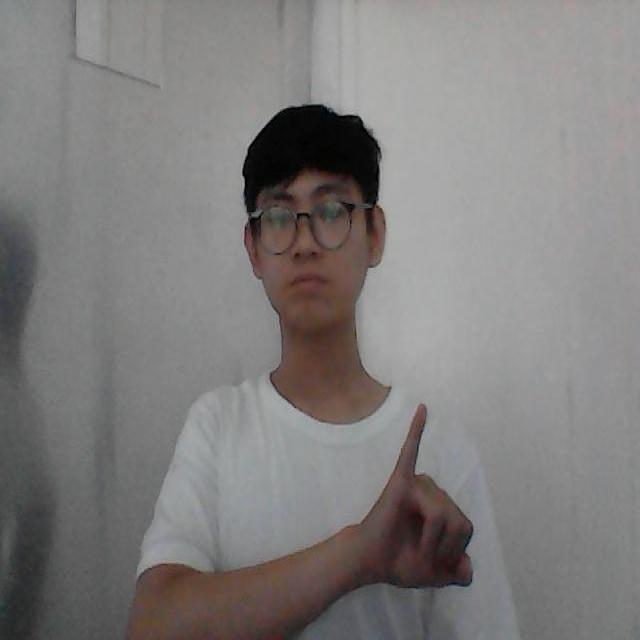I: (378, 398, 480, 594)
